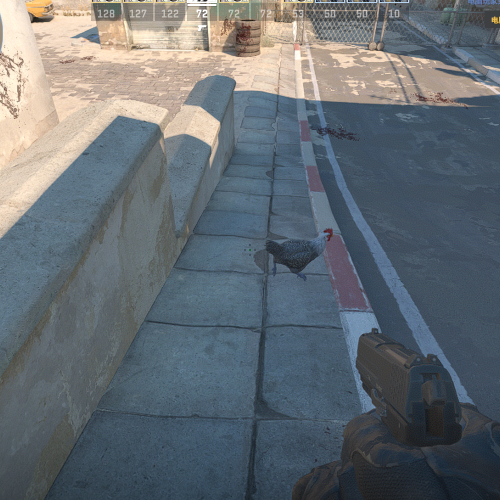chicken: (263, 228, 334, 282)
